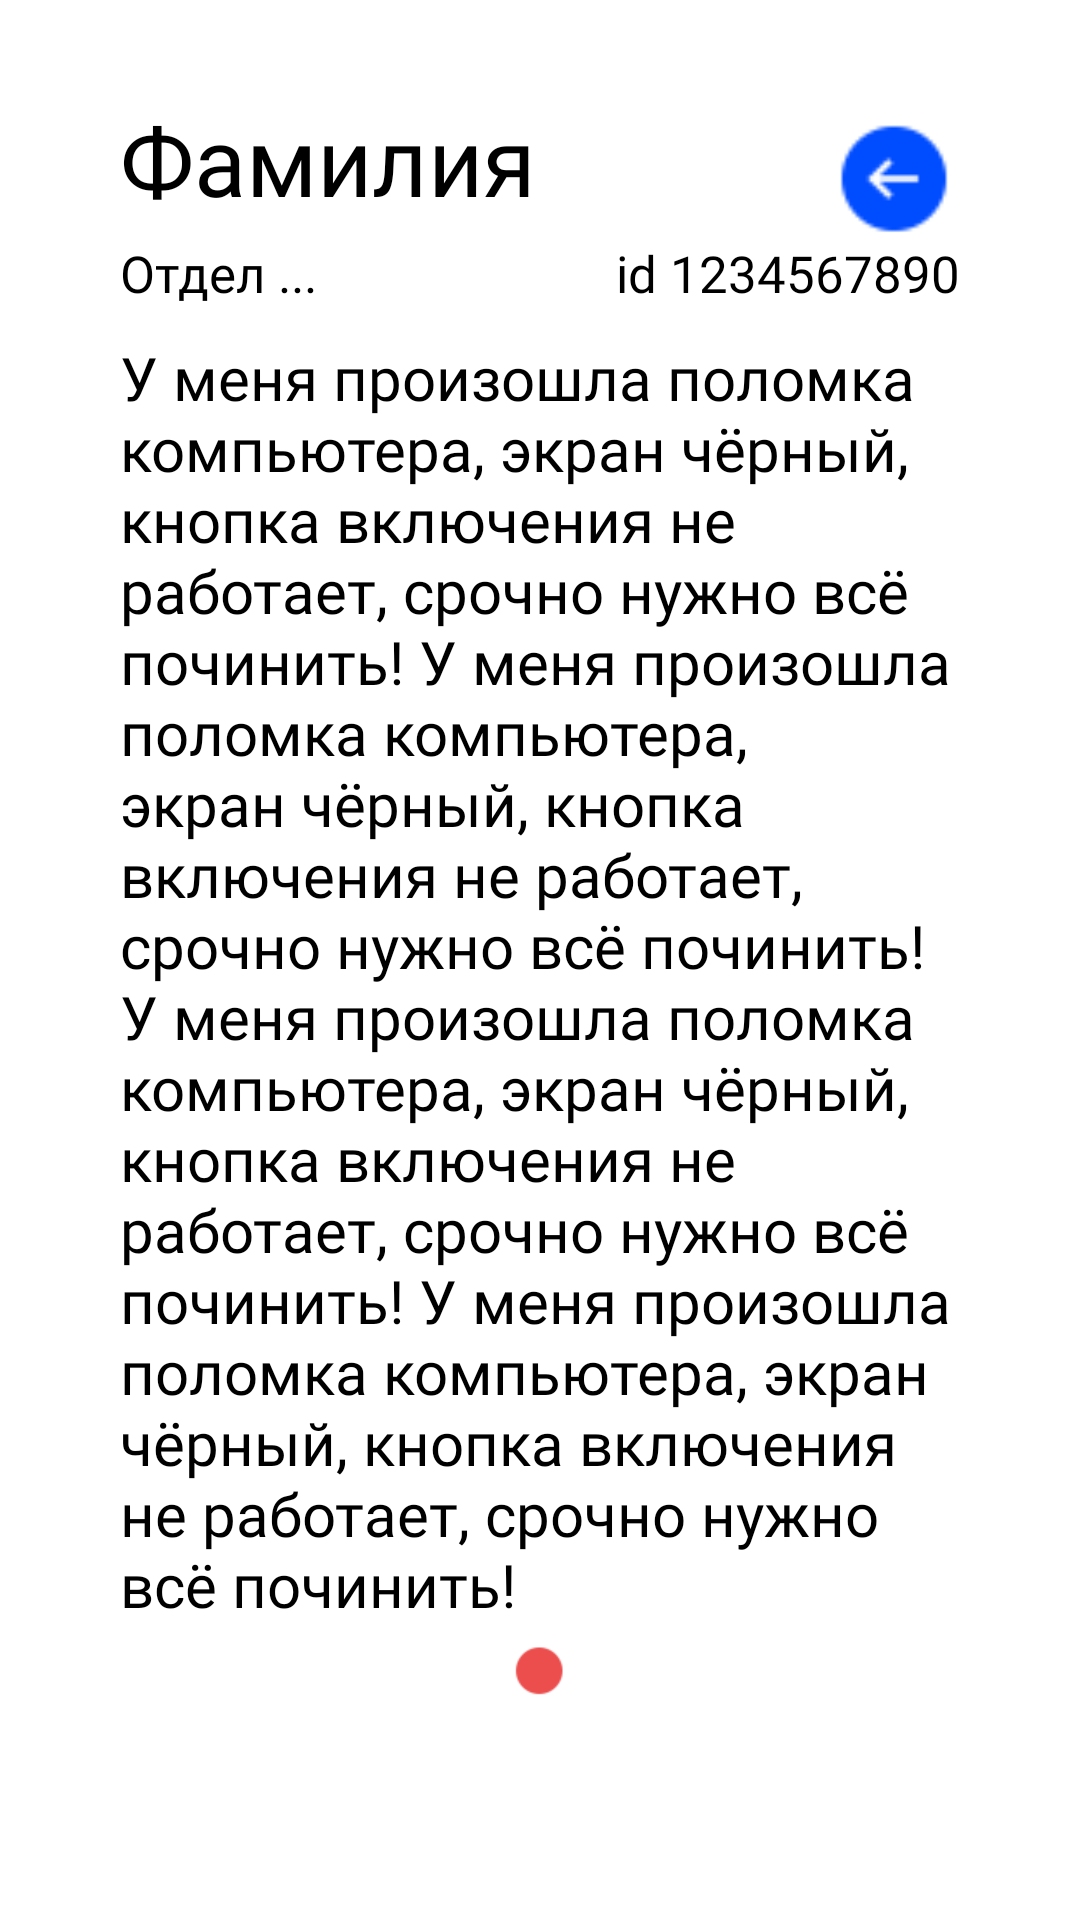

Where icons sit on this 1080w x 1920h app screen, as (x1, y1, x2, y2):
back: (840, 125, 948, 232)
